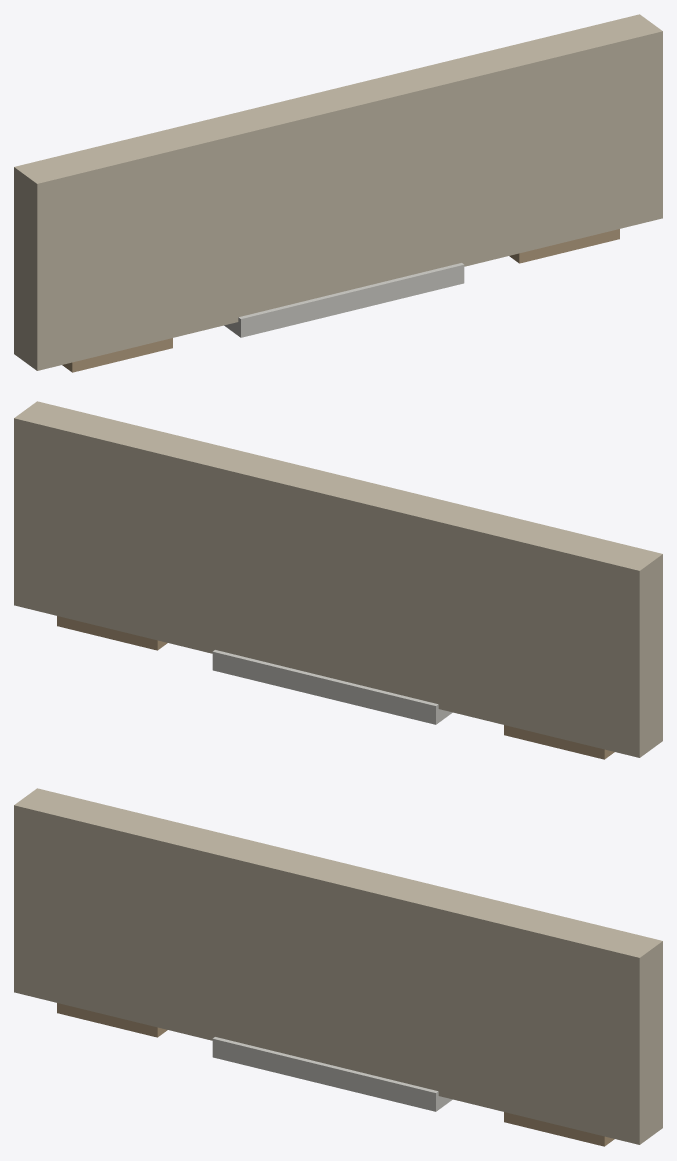
File: adhesive.glb
The picture shows the model from 3 angles, top to bottom: view 1: azimuth 30°, elevation 25°; view 2: azimuth 150°, elevation 25°; view 3: azimuth 330°, elevation 25°; orthographic projection.
Visible parts, largest first — view 1: 00_adhesive_strip, 01_pad, 02_perforation_band, 03_perforation_band; view 2: 00_adhesive_strip, 01_pad, 02_perforation_band, 03_perforation_band; view 3: 00_adhesive_strip, 01_pad, 03_perforation_band, 02_perforation_band.
Boxes of the visible parts, x1=… form: 00_adhesive_strip: x1=14, y1=14, x2=662, y2=370; 01_pad: x1=224, y1=263, x2=464, y2=337; 02_perforation_band: x1=62, y1=338, x2=172, y2=372; 03_perforation_band: x1=509, y1=229, x2=619, y2=263; 00_adhesive_strip: x1=14, y1=401, x2=662, y2=757; 01_pad: x1=212, y1=650, x2=452, y2=724; 02_perforation_band: x1=504, y1=725, x2=614, y2=759; 03_perforation_band: x1=57, y1=616, x2=167, y2=650; 00_adhesive_strip: x1=14, y1=788, x2=662, y2=1144; 01_pad: x1=212, y1=1037, x2=452, y2=1111; 03_perforation_band: x1=504, y1=1112, x2=614, y2=1146; 02_perforation_band: x1=57, y1=1003, x2=167, y2=1037.
Size of the model in its own units: 0.28 by 0.086 by 0.022.
